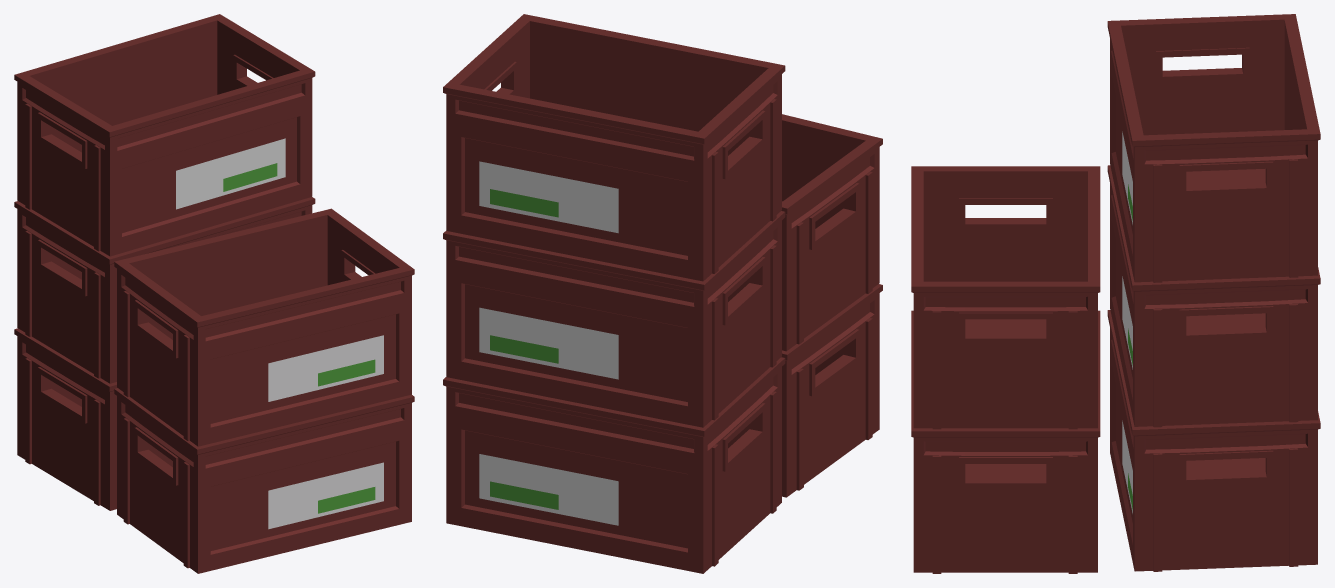
The model's file is SM_crate_1_set001.gltf.
3 renders of one model, left to right at view 1: azimuth 30°, elevation 25°; view 2: azimuth 150°, elevation 25°; view 3: azimuth 270°, elevation 25°, orthographic. The views are drawn at different scales.
Visible parts, largest first — view 1: SM_crate_1_set001; view 2: SM_crate_1_set001; view 3: SM_crate_1_set001.
Part boxes in pixels (<box>): SM_crate_1_set001: <box>14,14,414,573</box>; SM_crate_1_set001: <box>443,14,882,573</box>; SM_crate_1_set001: <box>911,14,1320,573</box>.
Bounding box in the file's own units: 0.7415 × 1.16 × 0.9982.
Materials: 1 (1 with a texture image).
